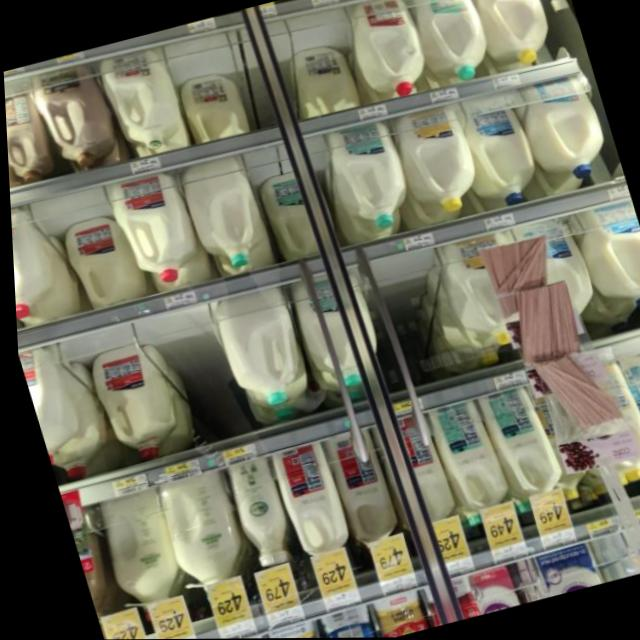Milk: (84, 485, 186, 625), (79, 336, 186, 466), (424, 228, 531, 355), (148, 468, 247, 605), (281, 264, 383, 393), (204, 283, 306, 412), (413, 395, 509, 529), (101, 167, 202, 290), (469, 380, 563, 512), (506, 70, 611, 188), (172, 152, 270, 274), (383, 104, 483, 220), (444, 96, 541, 214), (315, 120, 413, 236), (24, 56, 121, 173), (314, 427, 398, 558), (93, 45, 187, 155), (262, 441, 346, 560), (559, 197, 640, 320), (54, 209, 148, 313), (338, 0, 431, 104), (14, 343, 84, 465), (217, 456, 291, 571), (403, 0, 494, 87), (59, 507, 117, 638), (8, 201, 63, 321), (464, 0, 555, 72), (281, 40, 358, 120), (174, 68, 250, 145), (3, 81, 54, 186), (607, 351, 640, 479), (637, 345, 640, 471)
